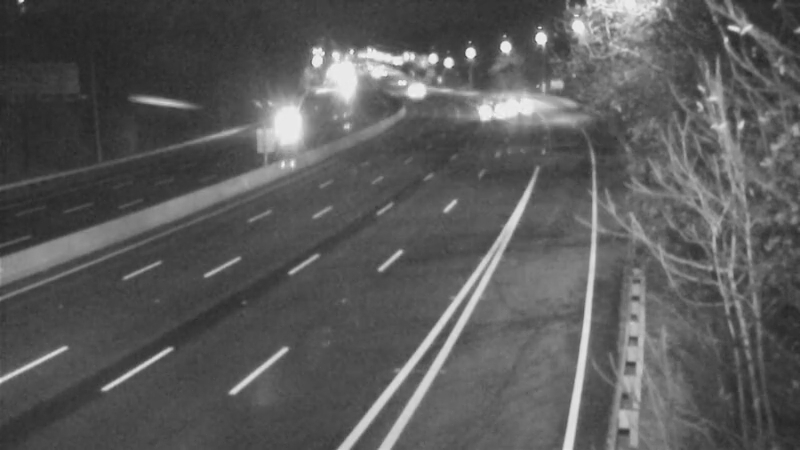vehicle: (374, 55, 424, 105), (385, 63, 435, 113), (462, 78, 512, 128), (494, 77, 544, 127), (265, 96, 315, 146)
